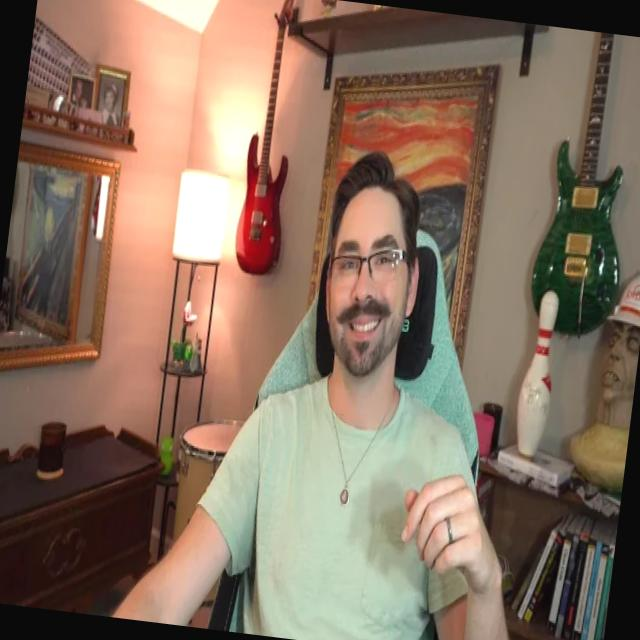Hand: (390, 464, 511, 604)
